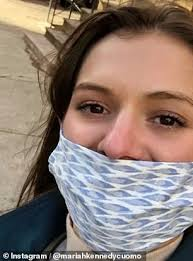mask_weared_incorrect: (60, 72, 193, 247)
